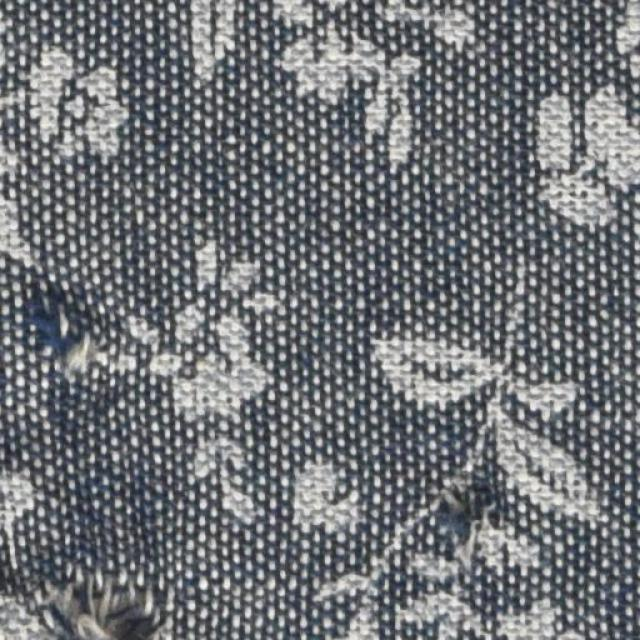Snag: (17, 291, 118, 406), (10, 566, 169, 639), (428, 482, 512, 563)
